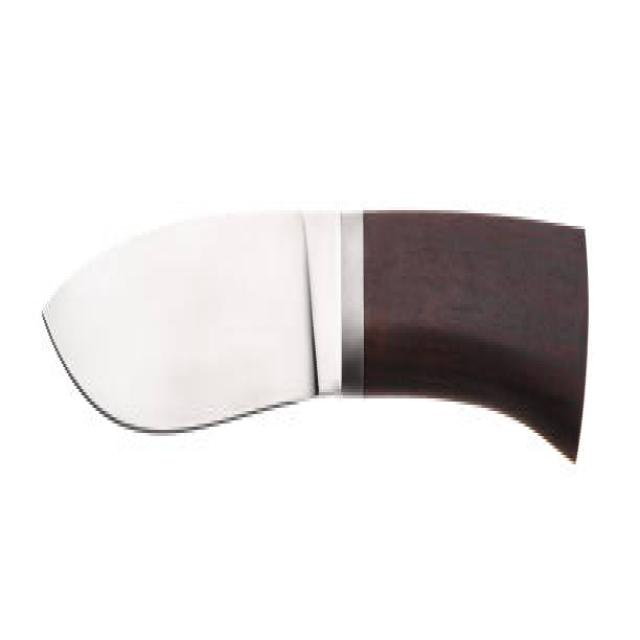knife: (37, 181, 596, 500)
